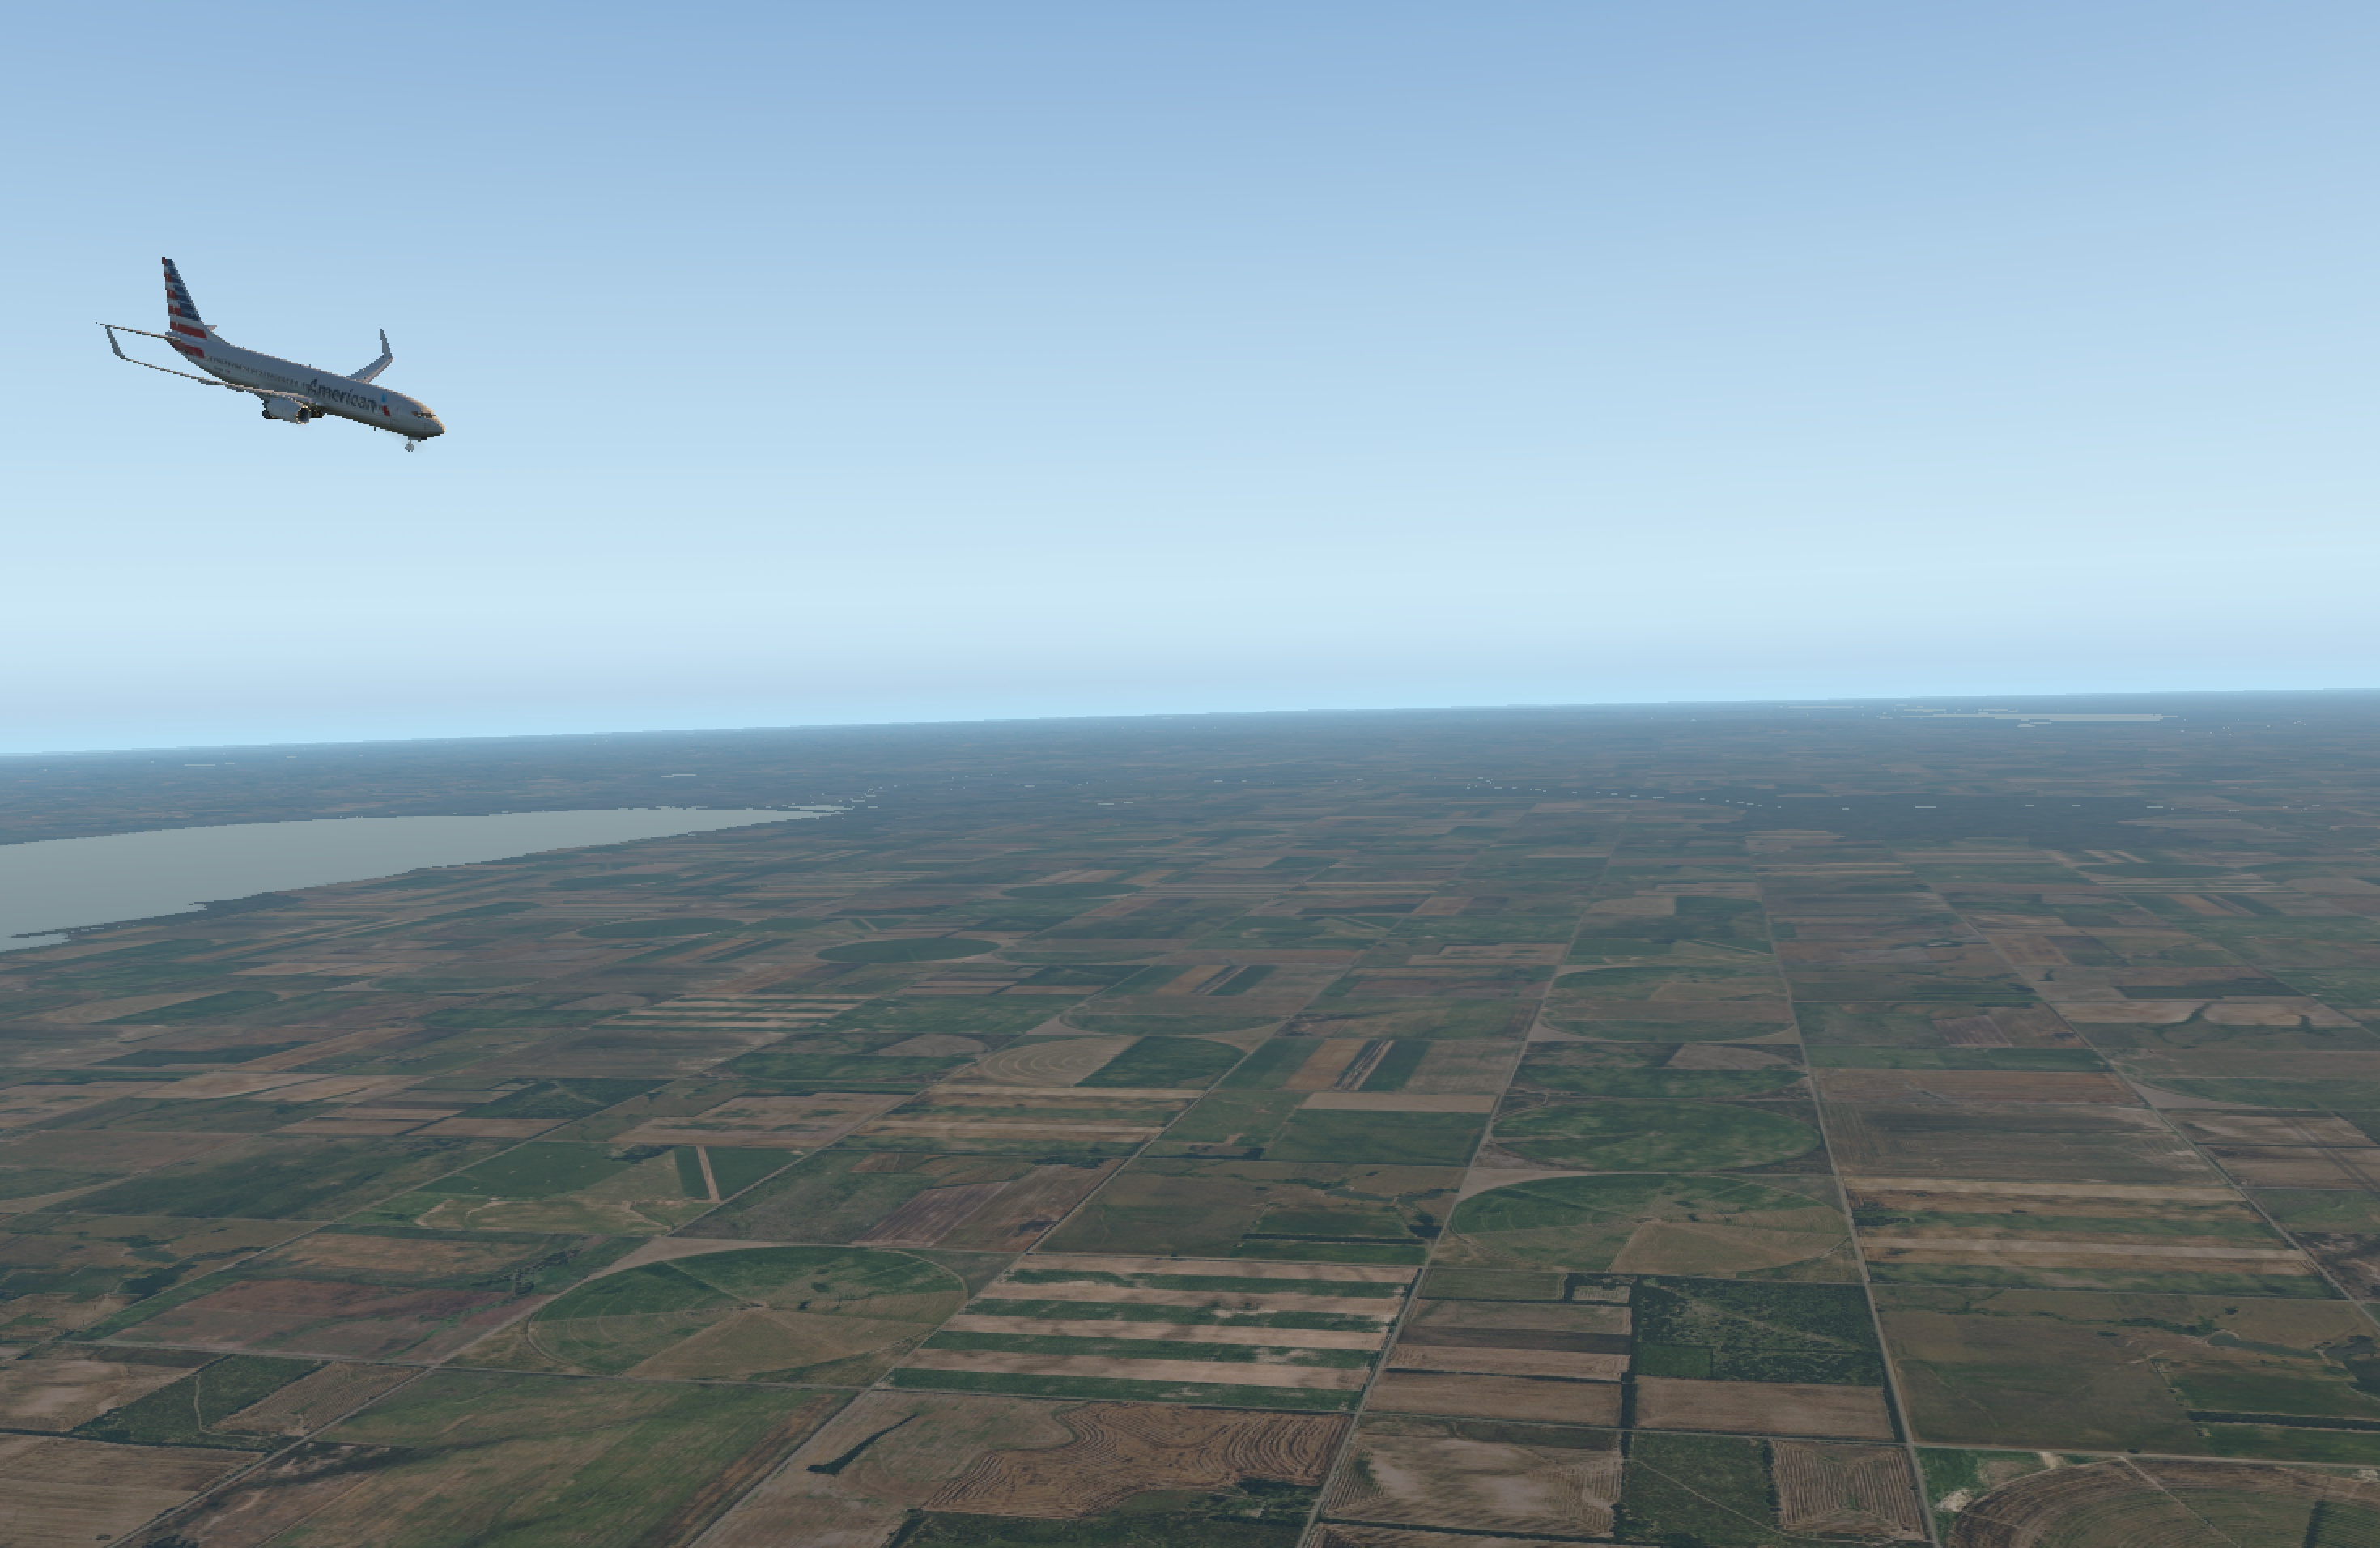aircraft: (130, 326, 481, 458)
